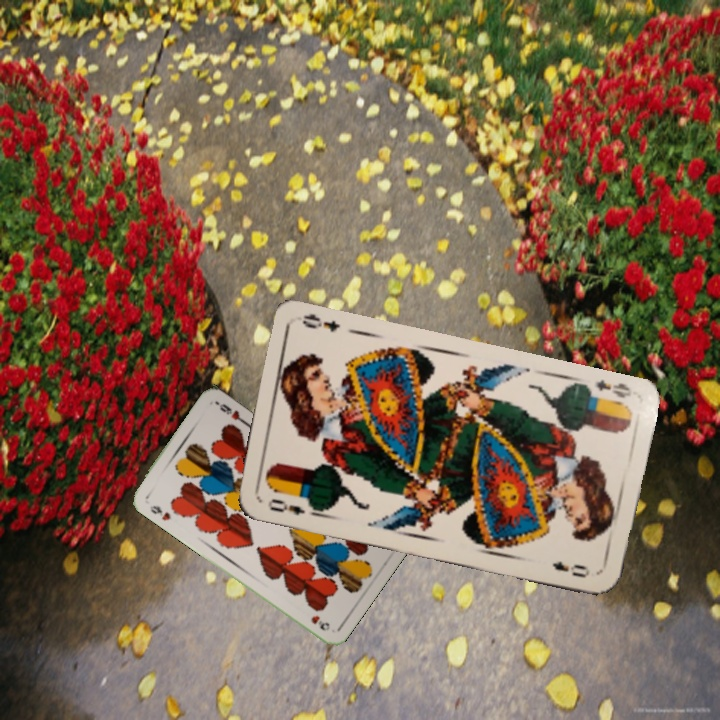EO: (593, 375, 635, 401), (263, 494, 308, 518)
H9: (146, 501, 173, 523)
